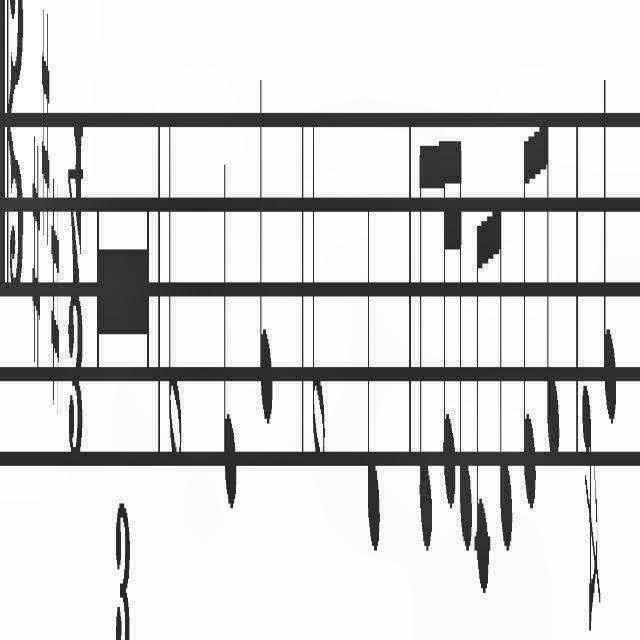Diez: (41, 0, 51, 244), (50, 176, 60, 420), (32, 135, 40, 377)
Eighth-note: (492, 197, 514, 567), (538, 122, 560, 470), (418, 122, 434, 568), (520, 119, 536, 527), (474, 198, 490, 602)
Half-note: (166, 113, 182, 477), (311, 112, 327, 468)
Quarter-note: (258, 62, 274, 440), (602, 66, 618, 442), (222, 154, 238, 524), (366, 198, 382, 564)
Sixteenth-note: (456, 120, 474, 568), (439, 122, 457, 512)
